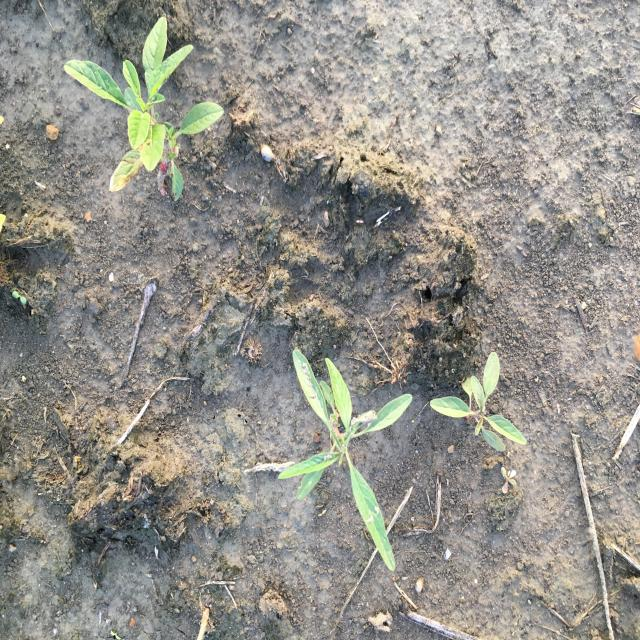Waterhemp: (276, 348, 413, 573), (64, 16, 225, 202), (429, 350, 527, 455)
